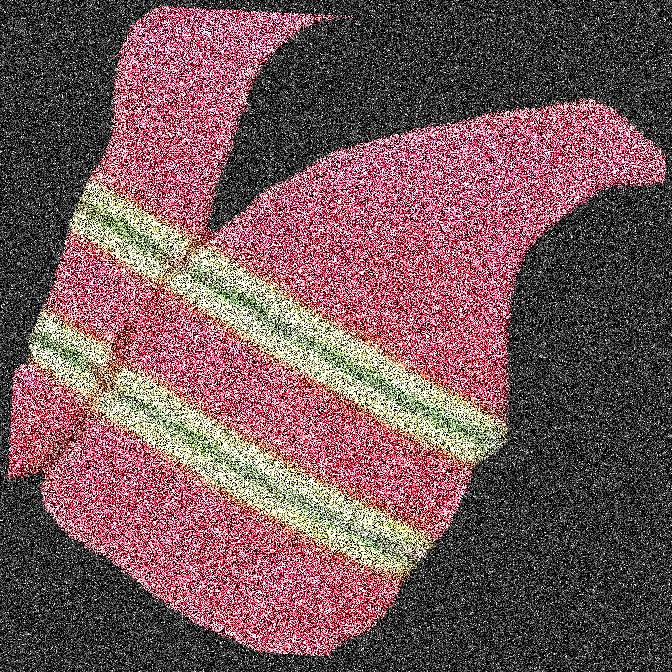Colete: (106, 0, 203, 671)
